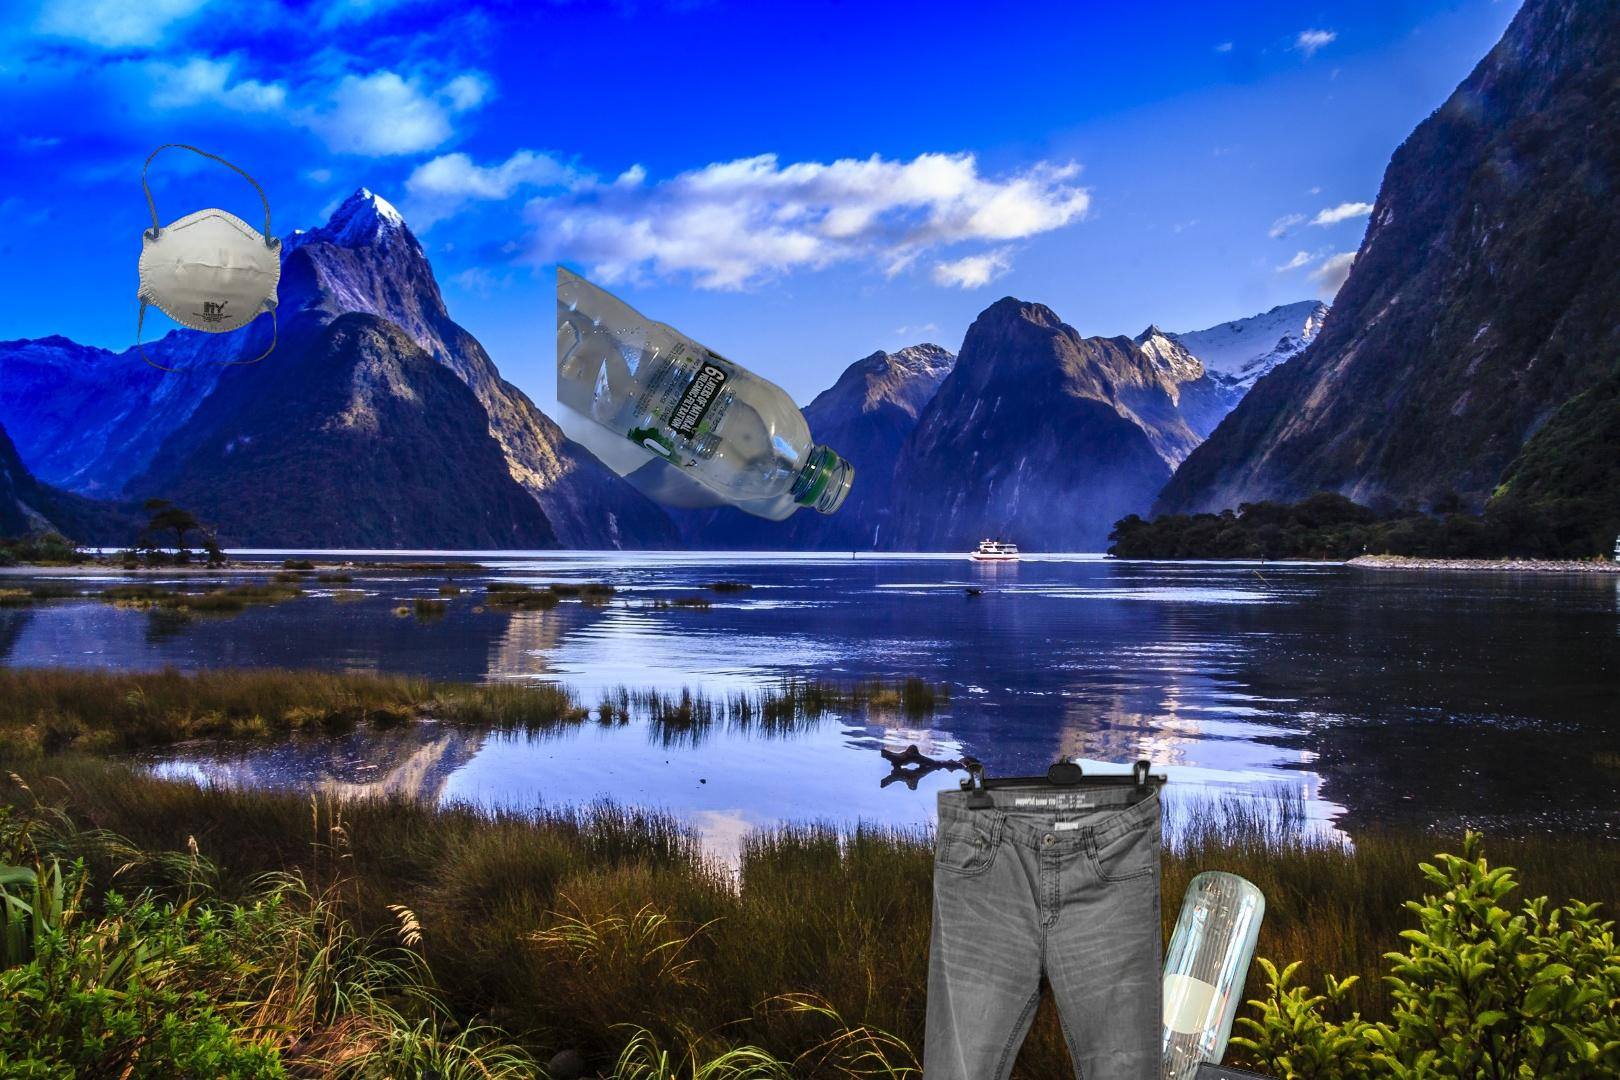battery: (1150, 1058, 1284, 1080)
clothes: (900, 755, 1170, 1080), (178, 1072, 483, 1080)
glass: (1122, 863, 1270, 1080)
plastic-bottles: (557, 259, 857, 527)
trash: (134, 142, 284, 375)
